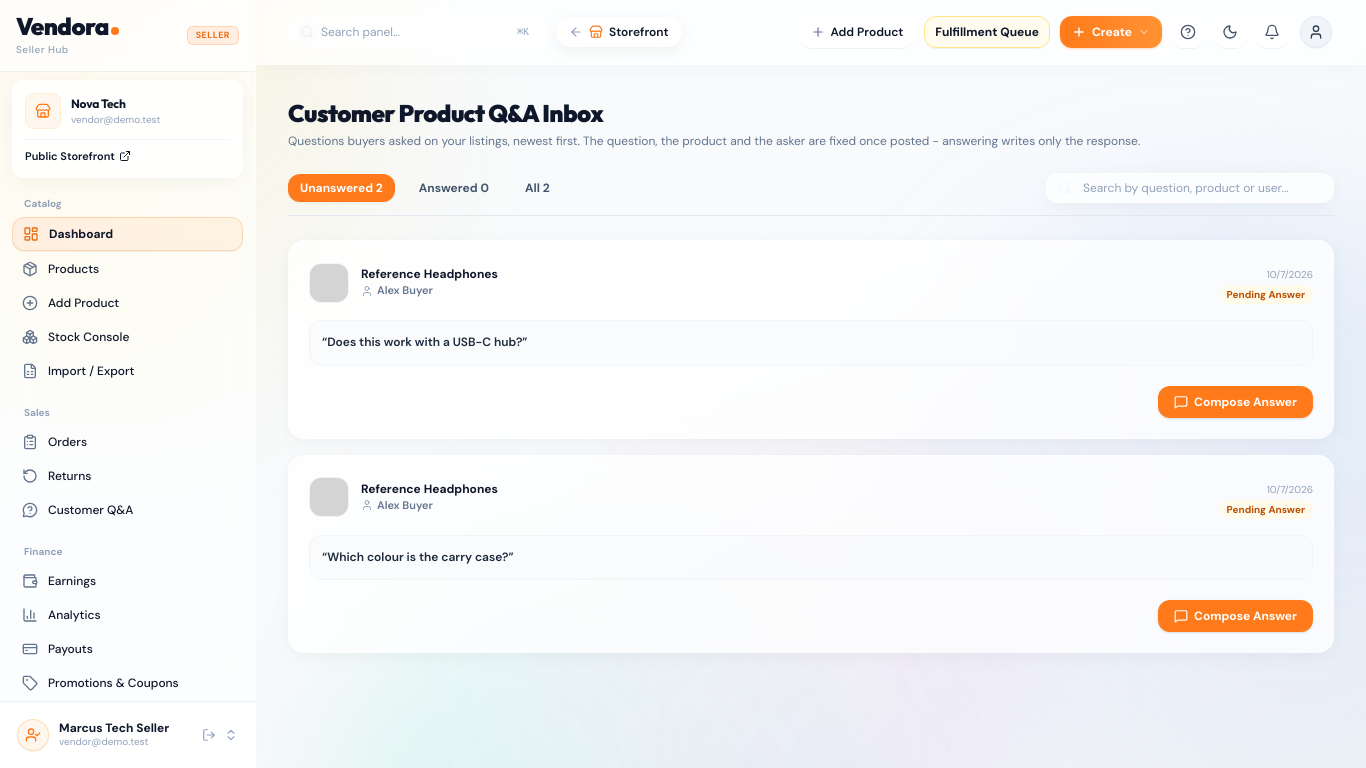
it: VendorQAPage › filters the queue by the text a seller types
Expected: the text "“Does this work with a USB-C hub?”" is shown, [322,334,528,350]
Type "carry case" into the field with placeholder "Search by question, product or user...".
click(1190, 188); type("carry case")  # box [1046,173,1334,203]
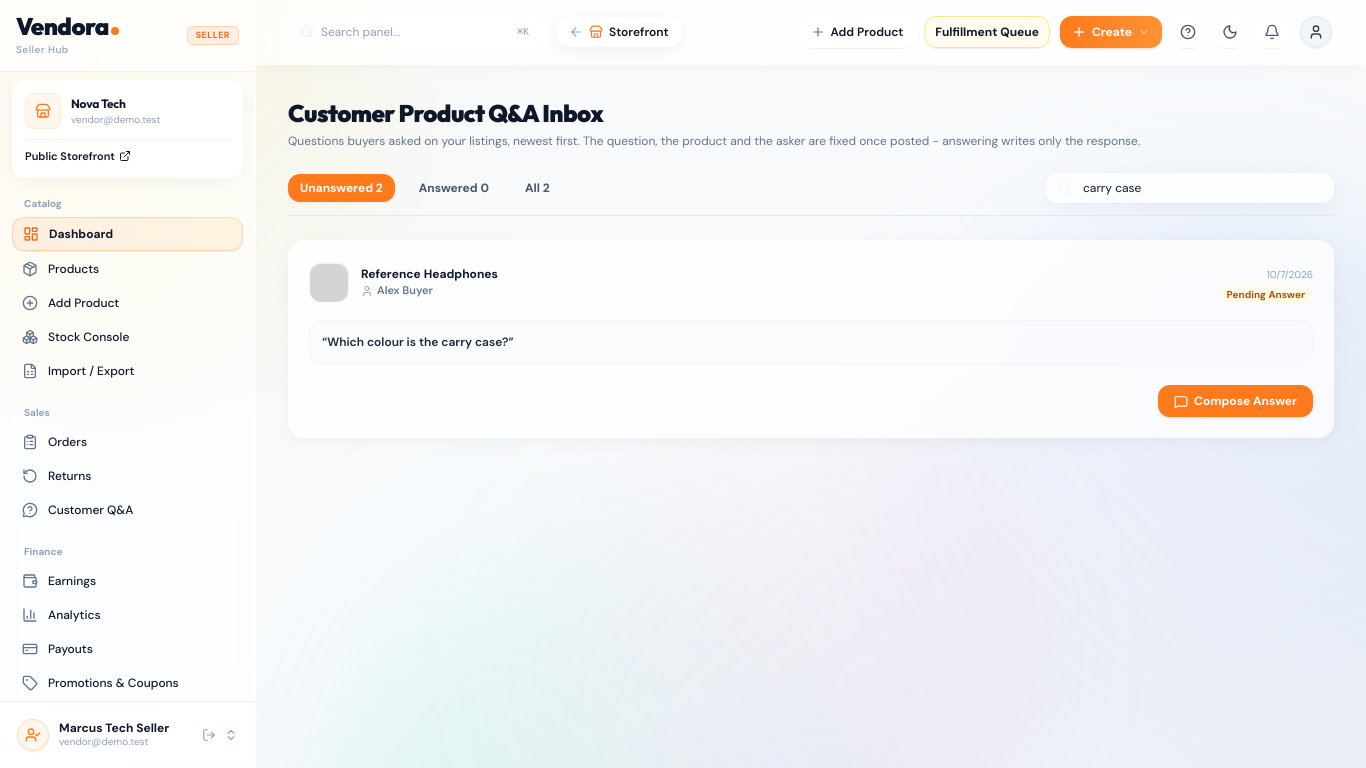
Expected: the text "“Which colour is the carry case?”" is shown, [322,334,514,350]
Result: the text "Does this work with a USB-C hub?" is gone
